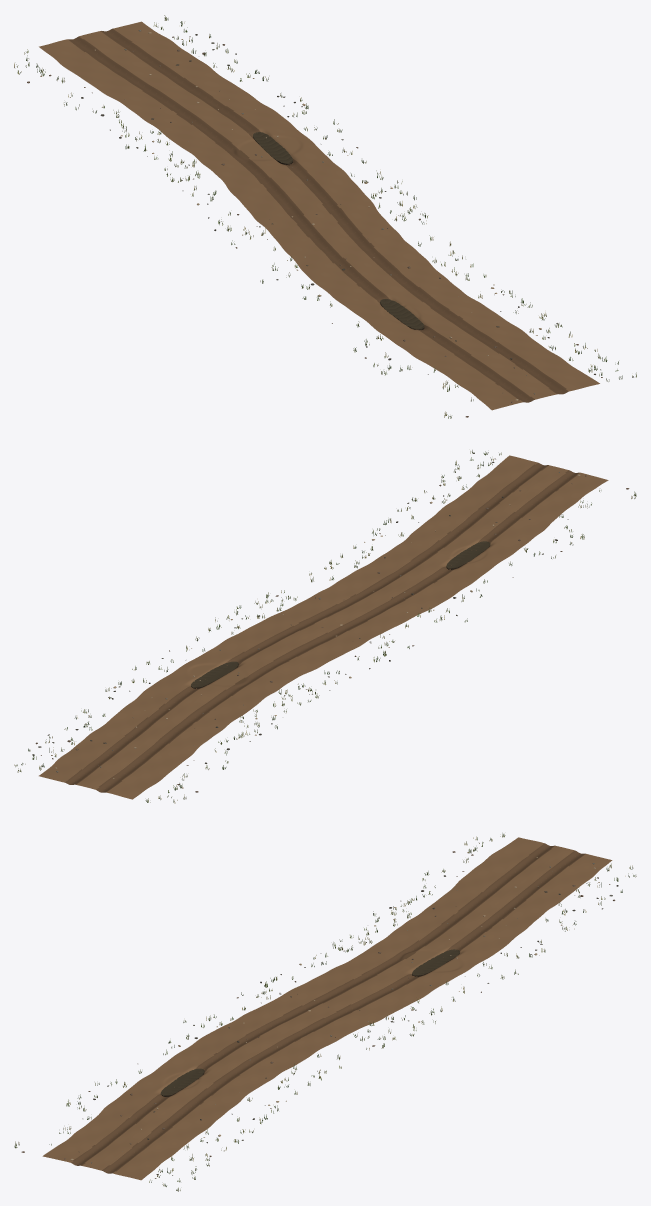
The model's file is estrada.glb.
The picture shows the model from 3 angles, top to bottom: view 1: azimuth 30°, elevation 25°; view 2: azimuth 150°, elevation 25°; view 3: azimuth 330°, elevation 25°; orthographic projection. The views are drawn at different scales.
Parts seen in each view (by area): view 1: Estrada de Terra com Sulcos, Vegetacao Espontanea das Bordas, Marcas Diagonais dos Pneus, Poça de lama - sulco direito, Poça de lama - sulco esquerdo, Cascalho e Pedras da Estrada; view 2: Estrada de Terra com Sulcos, Vegetacao Espontanea das Bordas, Marcas Diagonais dos Pneus, Poça de lama - sulco direito, Poça de lama - sulco esquerdo, Cascalho e Pedras da Estrada; view 3: Estrada de Terra com Sulcos, Vegetacao Espontanea das Bordas, Marcas Diagonais dos Pneus, Poça de lama - sulco direito, Poça de lama - sulco esquerdo, Cascalho e Pedras da Estrada.
Boxes of the visible parts, bbox=[...] form: Estrada de Terra com Sulcos: bbox=[39, 21, 599, 410]; Vegetacao Espontanea das Bordas: bbox=[14, 15, 636, 418]; Marcas Diagonais dos Pneus: bbox=[75, 33, 561, 400]; Poça de lama - sulco direito: bbox=[253, 132, 292, 165]; Poça de lama - sulco esquerdo: bbox=[380, 299, 424, 329]; Cascalho e Pedras da Estrada: bbox=[27, 30, 633, 417]; Estrada de Terra com Sulcos: bbox=[39, 455, 608, 799]; Vegetacao Espontanea das Bordas: bbox=[14, 450, 636, 803]; Marcas Diagonais dos Pneus: bbox=[72, 466, 573, 789]; Poça de lama - sulco direito: bbox=[191, 661, 238, 688]; Poça de lama - sulco esquerdo: bbox=[446, 541, 490, 569]; Cascalho e Pedras da Estrada: bbox=[32, 453, 629, 792]; Estrada de Terra com Sulcos: bbox=[42, 837, 612, 1180]; Vegetacao Espontanea das Bordas: bbox=[14, 833, 636, 1191]; Marcas Diagonais dos Pneus: bbox=[77, 848, 578, 1171]; Poça de lama - sulco direito: bbox=[412, 949, 459, 976]; Poça de lama - sulco esquerdo: bbox=[160, 1068, 204, 1096]; Cascalho e Pedras da Estrada: bbox=[21, 851, 618, 1190].
Bounding box in the file's own units: 12.79 × 0.5757 × 48.03.
